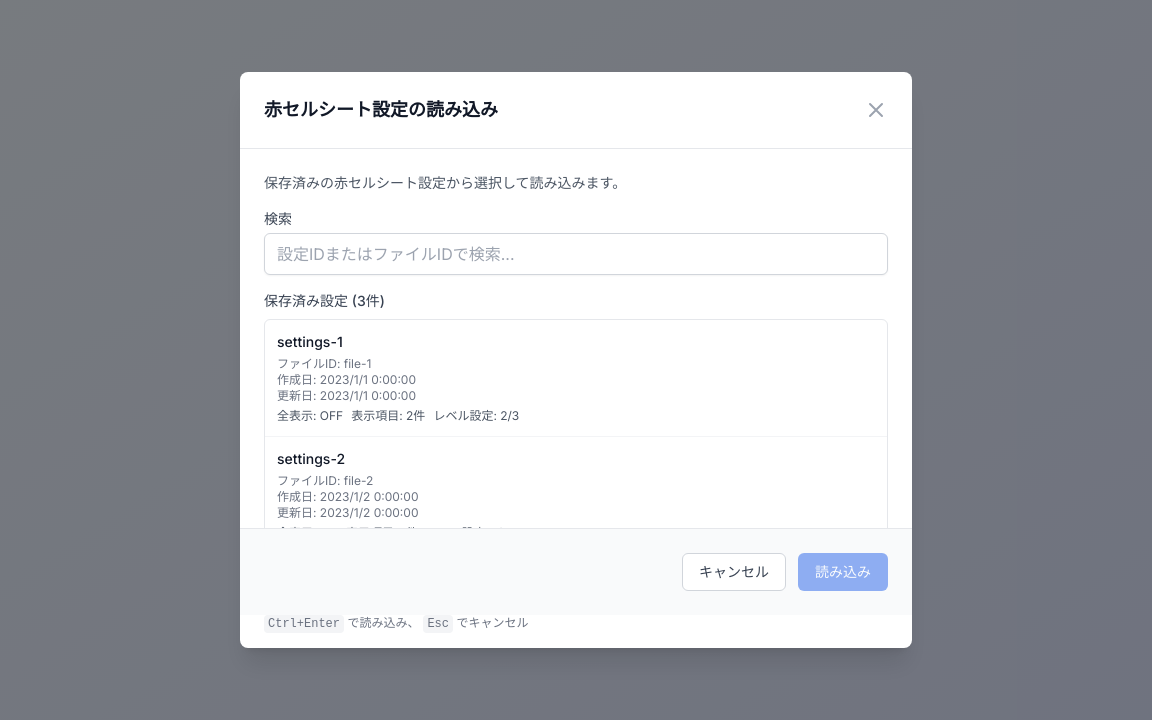
Test: RedactionLoadDialog › 設定選択 › should select setting when clicked
What coordinates should you click on to do the following:
click the element with test id "setting-item-settings-1"
I would click on:
 (576, 378)
Its box is [265,320,887,437].
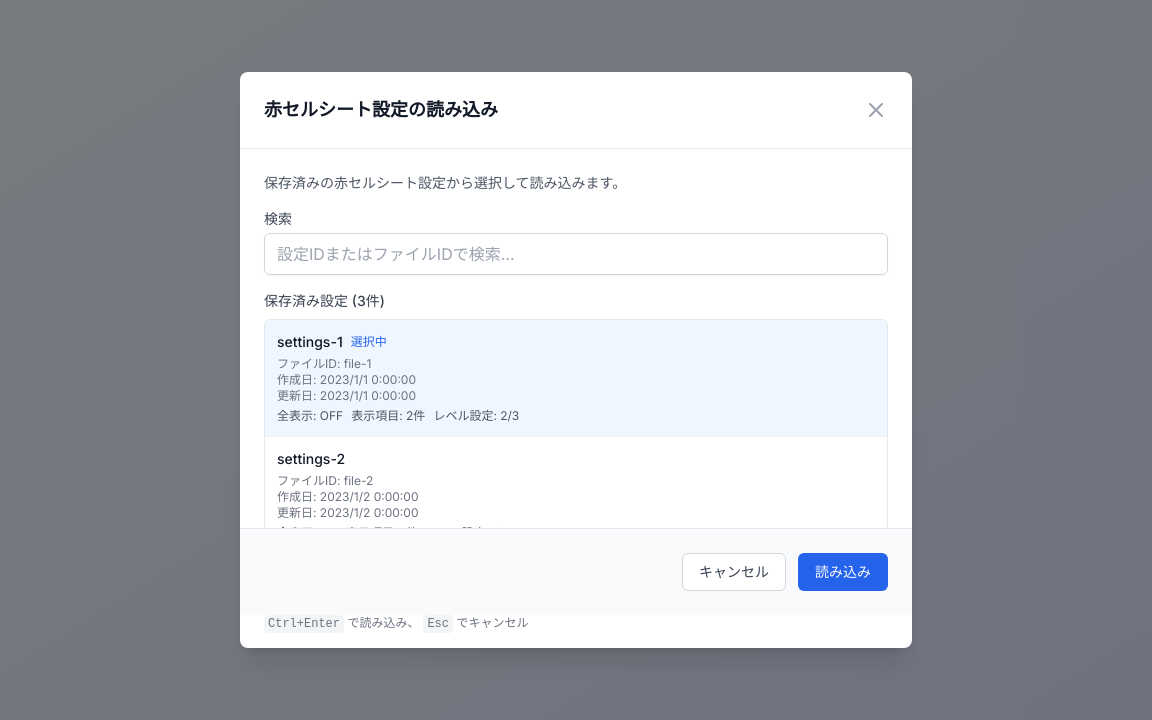
expect the text "選択中" is shown: met, box [351,334,387,350]
